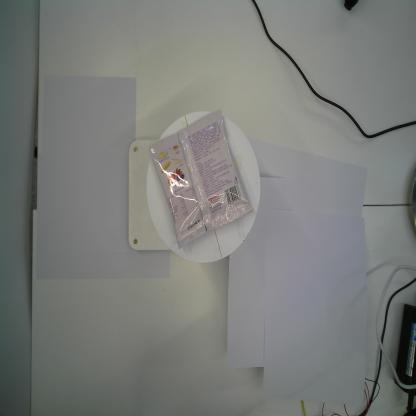Instant Drink: (148, 108, 254, 250)
